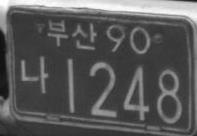0: (129, 25, 151, 55)
1: (57, 58, 83, 113)
2: (88, 61, 117, 117)
4: (122, 64, 149, 120)
8: (157, 68, 183, 125)
9: (106, 23, 125, 52)
나: (20, 55, 49, 94)
부산_O: (47, 18, 97, 50)
